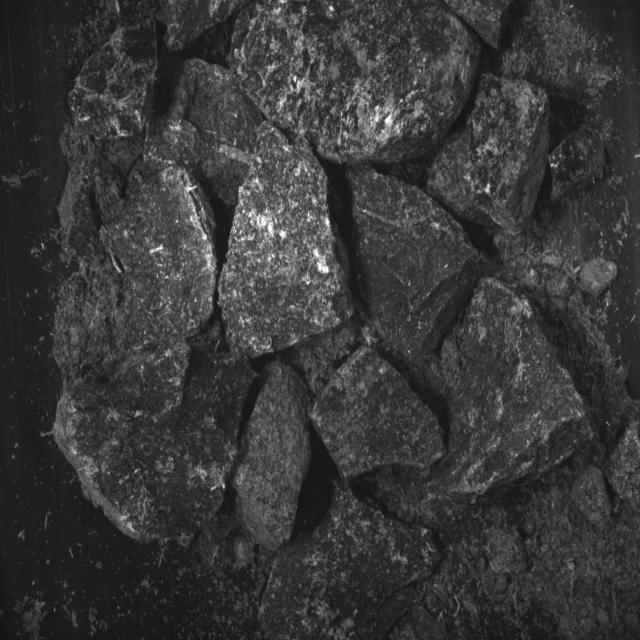Stones: (231, 1, 481, 164), (55, 343, 255, 545), (429, 278, 592, 504), (220, 123, 354, 359), (349, 166, 485, 381), (261, 484, 440, 640), (102, 167, 217, 347), (427, 75, 550, 235), (311, 347, 445, 480), (146, 60, 264, 208), (234, 363, 312, 552), (70, 26, 159, 140)
